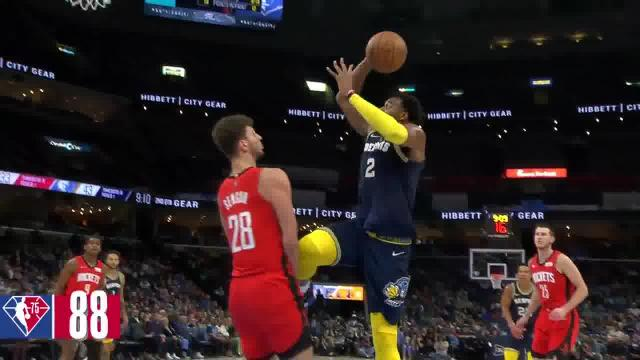ball-handler: (277, 28, 427, 360)
player: (203, 106, 310, 360), (525, 221, 593, 360), (54, 229, 104, 360), (496, 261, 538, 360), (94, 247, 130, 360)
